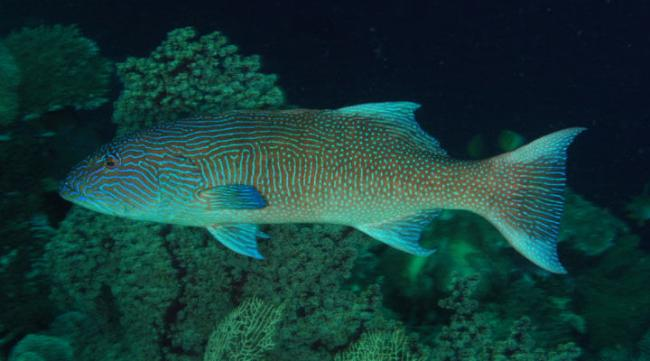fish: (58, 101, 587, 275)
